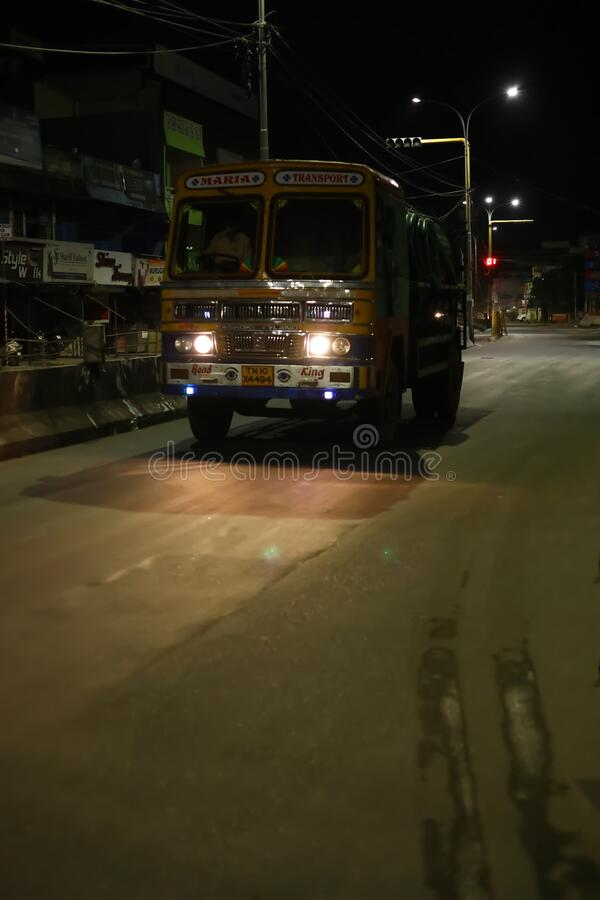truck: (162, 164, 461, 448)
